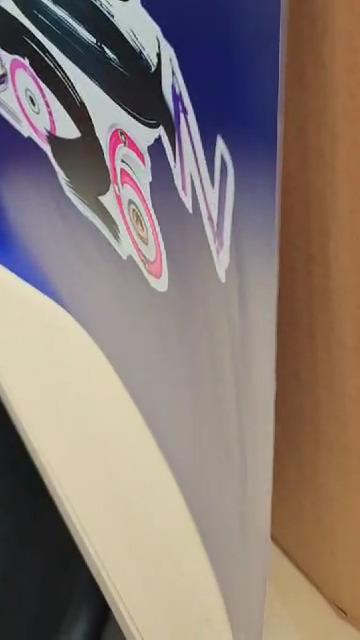B_R1: (0, 0, 244, 314)
